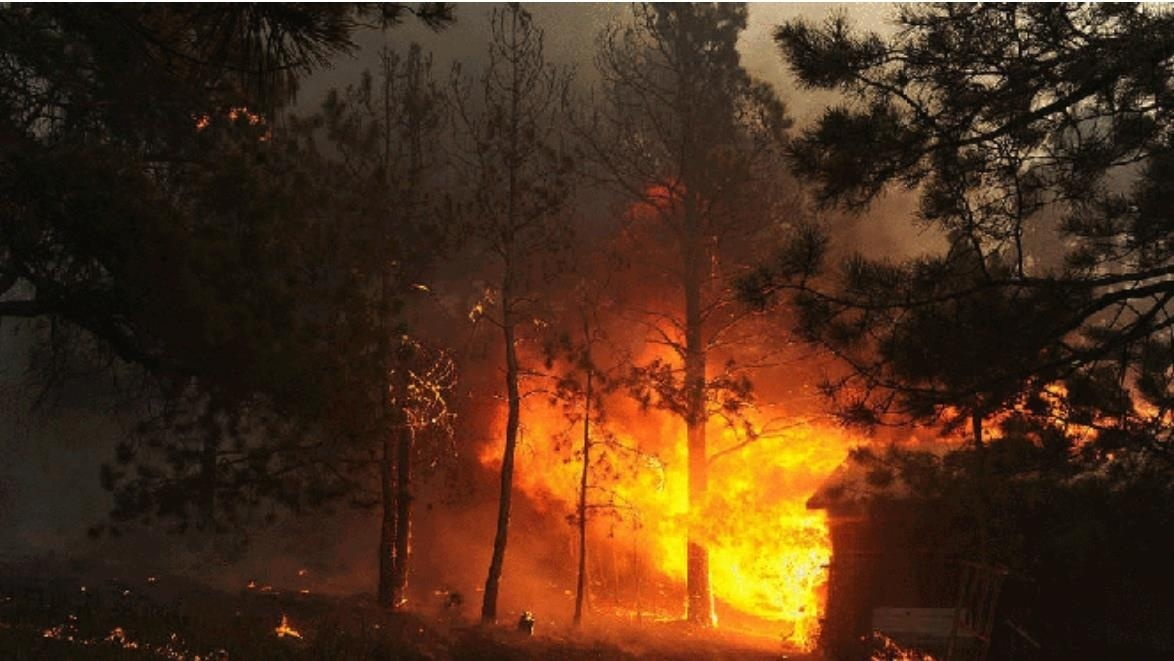fire: (470, 318, 855, 635)
